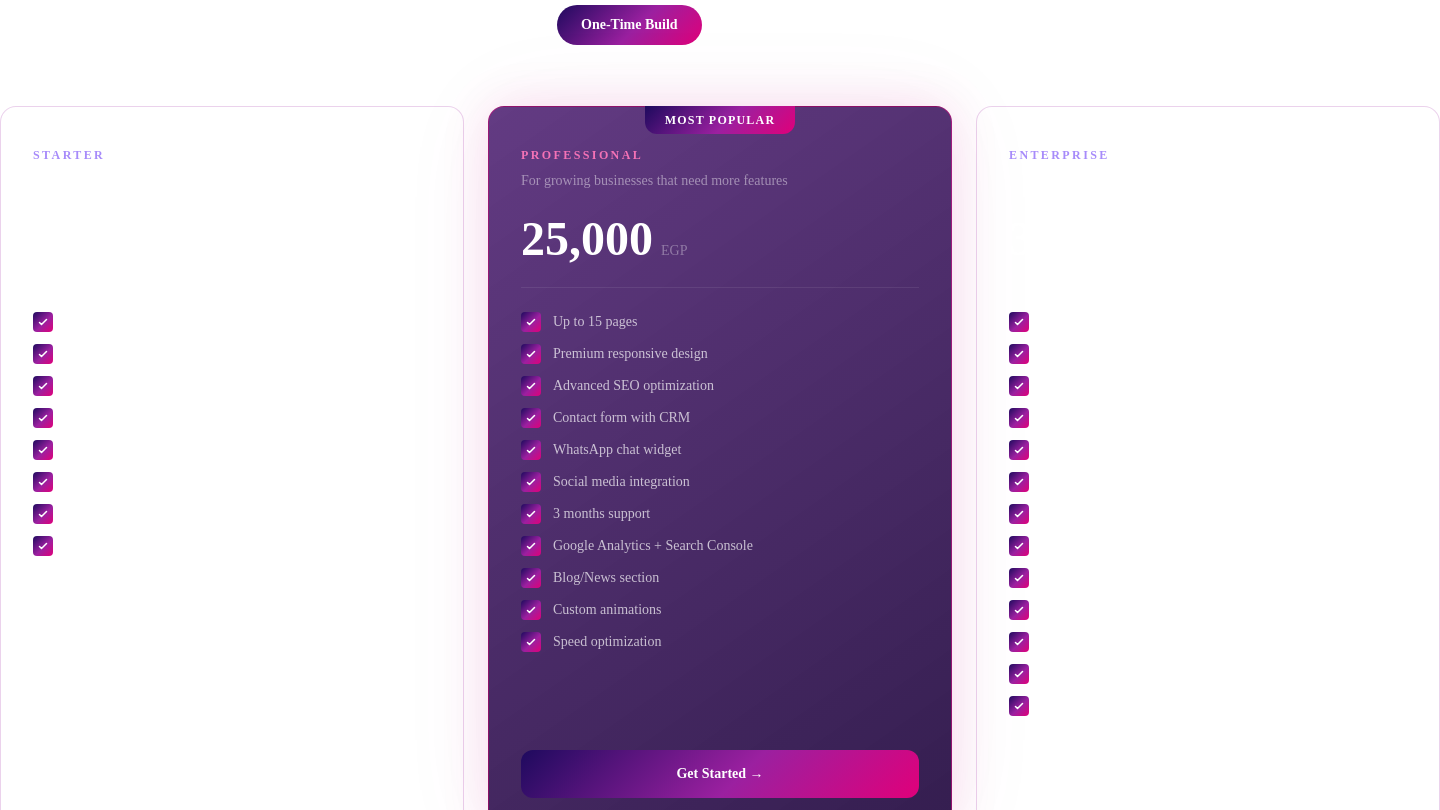
Test: PricingCards › Trap: toggling to monthly swaps in the monthly plan set entirely, not just relabeling prices
Click the button "Monthly Management" at (792, 25), box [702,5,883,45]
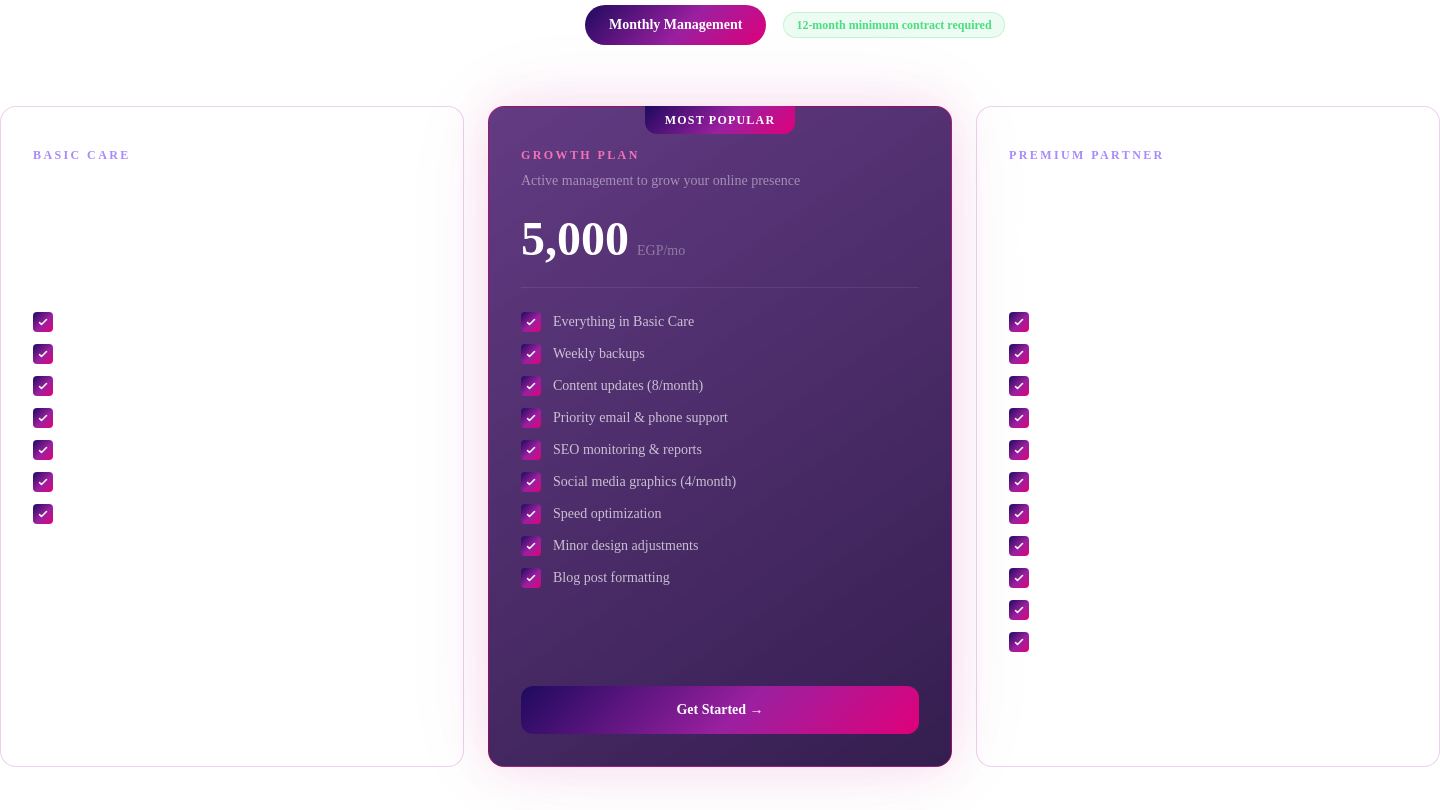
expect the heading "Basic Care" is shown: met, box [33,148,131,162]
expect the heading "Growth Plan" is shown: met, box [521,148,640,162]
expect the heading "Premium Partner" is shown: met, box [1009,148,1165,162]
